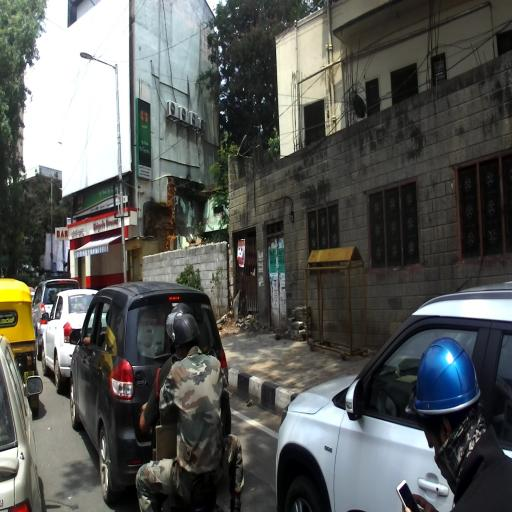street_light_0: (80, 52, 118, 69)
